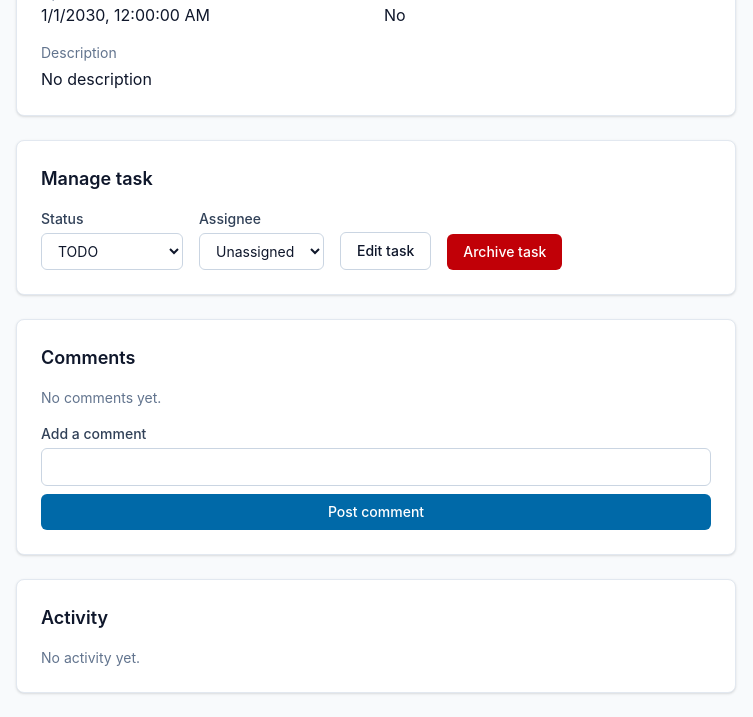
task detail page extras › FR-UI-008: an API error on adding a comment is shown
(page scrolled)
Type "Hi" into the field labelled "Add a comment".
click(376, 467); type("Hi")  # box [41,448,711,486]
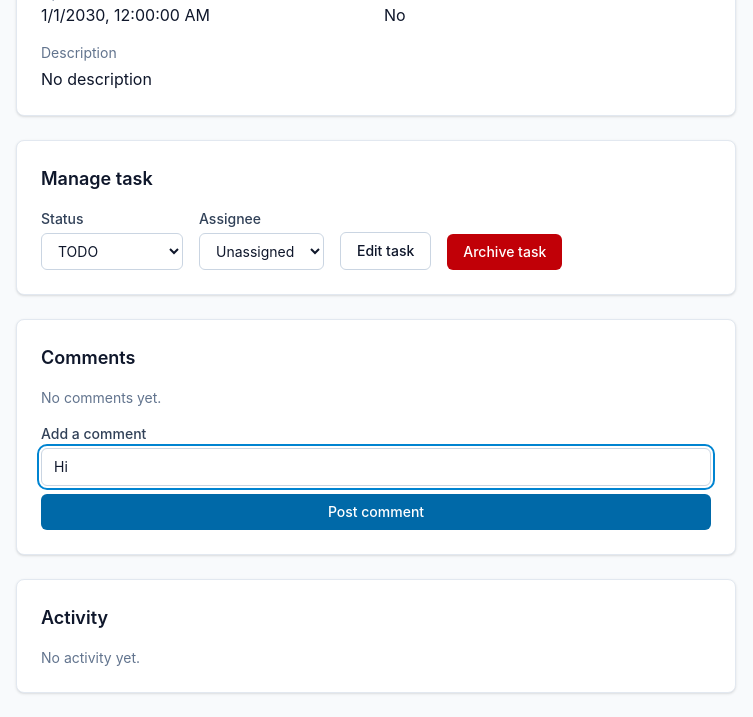
Click the button "Post comment".
click(376, 512)  # box [41,494,711,530]
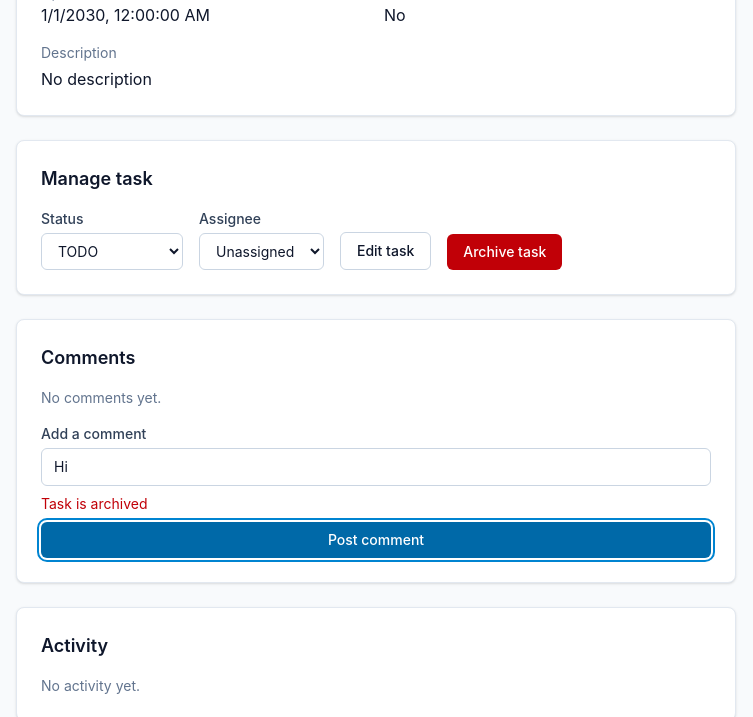
Check: the text "Task is archived" is shown, box [41,495,148,512]
